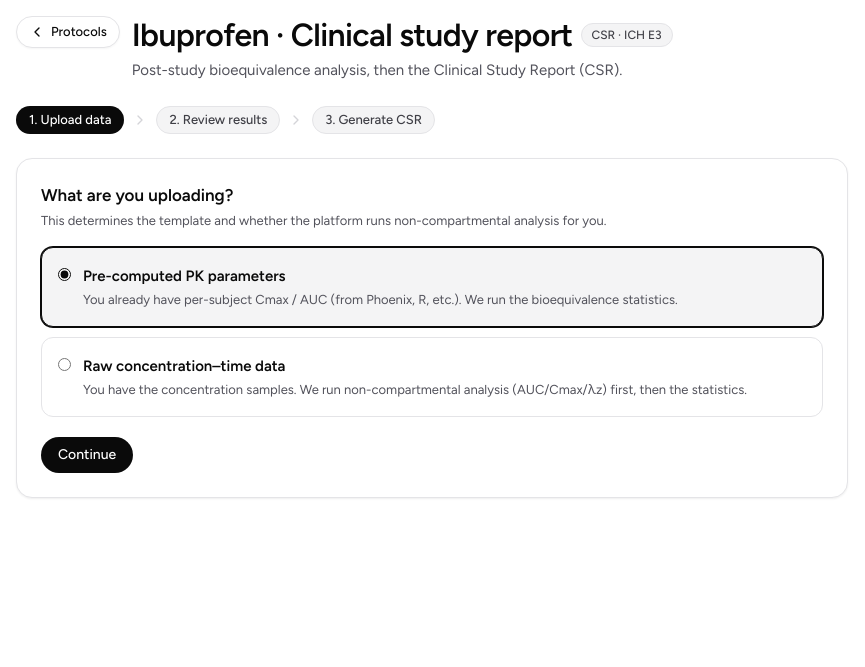
Test: CSRView (outer element is not a <main>) › starts at the input-kind choice, creates the report with the chosen kind, and moves to the upload step
Expected: the element "What are you uploading?" is shown, [41, 183, 823, 417]
Click the radio button labelled "Raw concentration".
click(64, 364)  # box [58, 358, 71, 371]
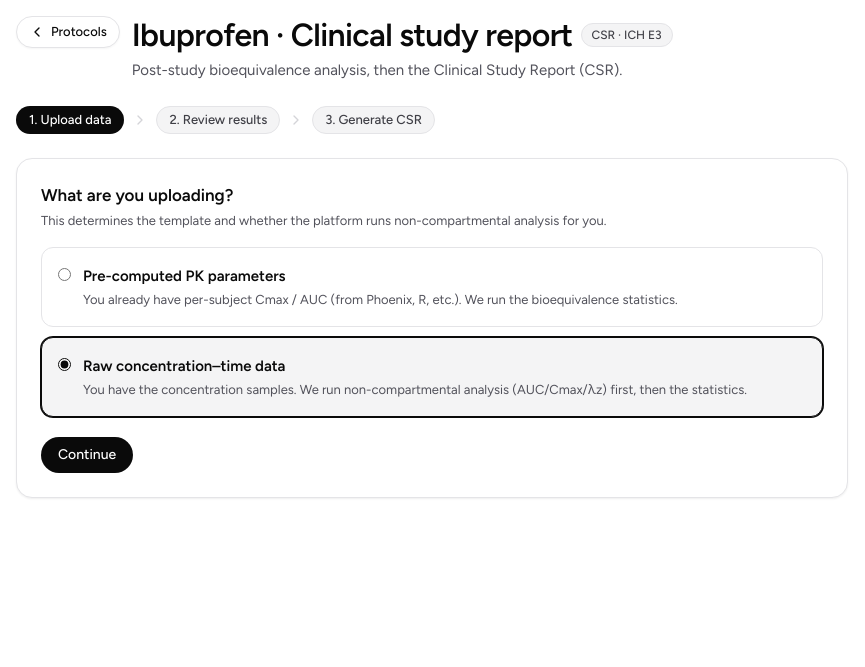
Click the button "Continue".
click(87, 455)  # box [41, 437, 133, 473]
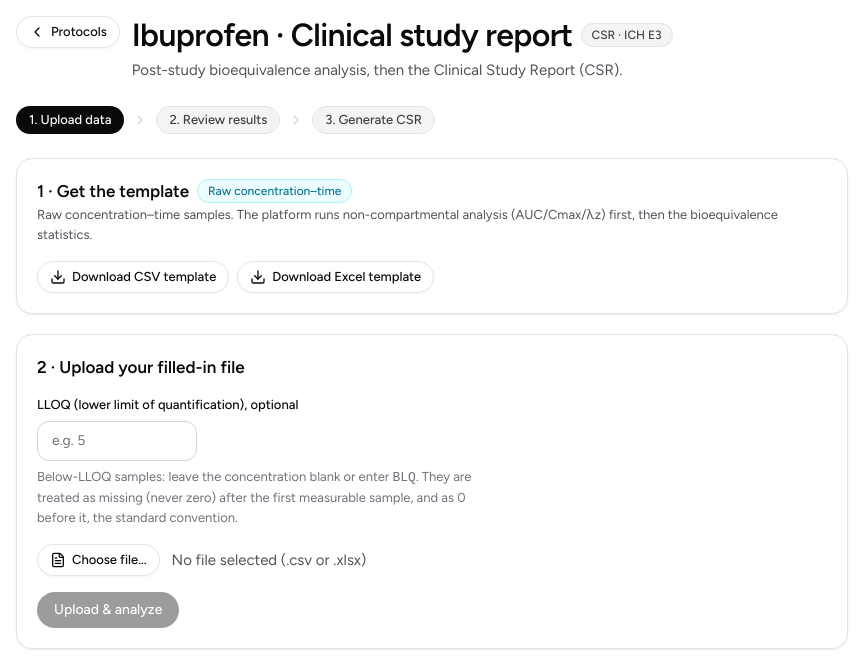
Expected: the list item "1. Upload data" is shown, [16, 106, 148, 134]
Expected: the heading "1 · Get the template" is shown, [37, 179, 189, 203]
